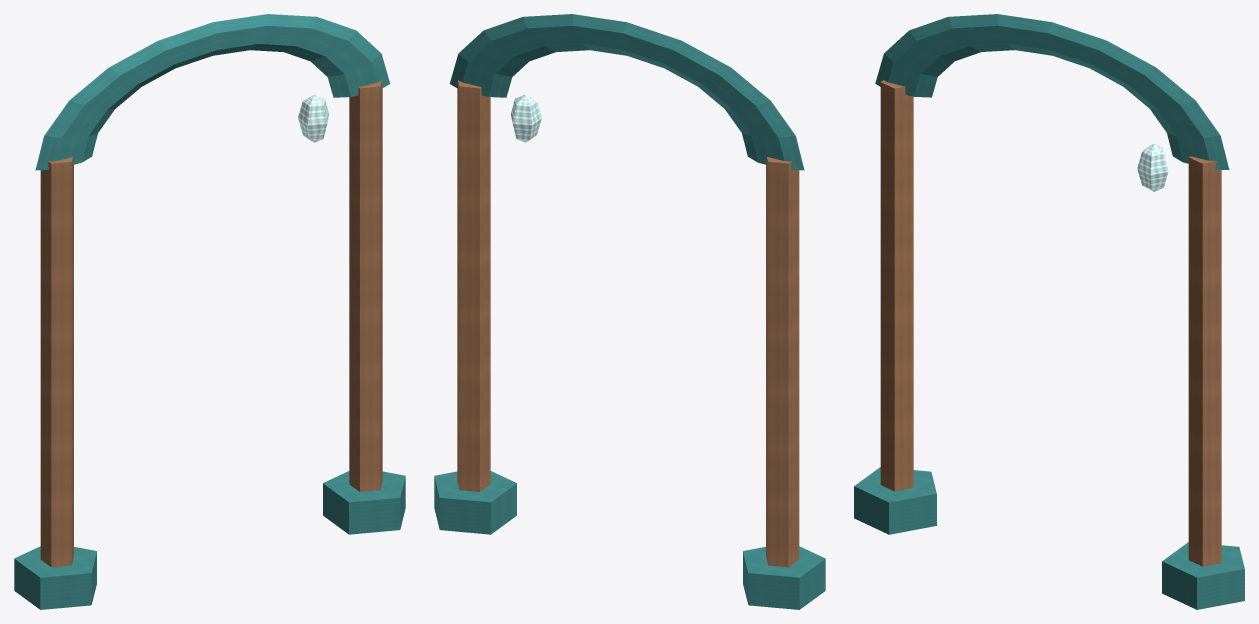
File: atlas100-s091-a09.lod1.glb
3 views of the same model, side by side, from view 1: azimuth 30°, elevation 25°; view 2: azimuth 150°, elevation 25°; view 3: azimuth 330°, elevation 25° (orthographic).
Visible parts, largest first — view 1: atlas100-s091-a09:part-004, atlas100-s091-a09:part-000, atlas100-s091-a09:part-002, atlas100-s091-a09:part-003, atlas100-s091-a09:part-001, atlas100-s091-a09:part-006; view 2: atlas100-s091-a09:part-004, atlas100-s091-a09:part-000, atlas100-s091-a09:part-002, atlas100-s091-a09:part-003, atlas100-s091-a09:part-001, atlas100-s091-a09:part-006; view 3: atlas100-s091-a09:part-004, atlas100-s091-a09:part-002, atlas100-s091-a09:part-000, atlas100-s091-a09:part-003, atlas100-s091-a09:part-001, atlas100-s091-a09:part-006.
Boxes of the visible parts, x1=… form: atlas100-s091-a09:part-004: x1=35, y1=14, x2=390, y2=170; atlas100-s091-a09:part-000: x1=40, y1=157, x2=73, y2=567; atlas100-s091-a09:part-002: x1=349, y1=80, x2=382, y2=491; atlas100-s091-a09:part-003: x1=323, y1=471, x2=405, y2=534; atlas100-s091-a09:part-001: x1=14, y1=546, x2=96, y2=609; atlas100-s091-a09:part-006: x1=298, y1=94, x2=329, y2=142; atlas100-s091-a09:part-004: x1=449, y1=14, x2=804, y2=170; atlas100-s091-a09:part-000: x1=766, y1=157, x2=799, y2=567; atlas100-s091-a09:part-002: x1=457, y1=80, x2=490, y2=491; atlas100-s091-a09:part-003: x1=434, y1=471, x2=516, y2=534; atlas100-s091-a09:part-001: x1=743, y1=546, x2=825, y2=609; atlas100-s091-a09:part-006: x1=510, y1=94, x2=541, y2=142; atlas100-s091-a09:part-004: x1=875, y1=14, x2=1229, y2=169; atlas100-s091-a09:part-002: x1=1188, y1=156, x2=1221, y2=566; atlas100-s091-a09:part-000: x1=880, y1=80, x2=913, y2=491; atlas100-s091-a09:part-003: x1=1162, y1=542, x2=1244, y2=609; atlas100-s091-a09:part-001: x1=854, y1=467, x2=936, y2=534; atlas100-s091-a09:part-006: x1=1137, y1=144, x2=1168, y2=191.
Bounding box in the file's own units: 2.45 × 3.3 × 0.4755.
3 materials, 3 textured.
